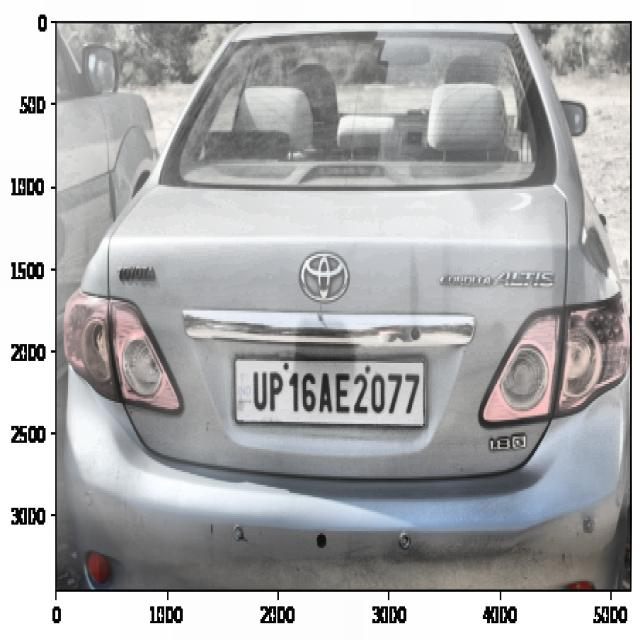license_plate: (247, 362, 426, 428)
